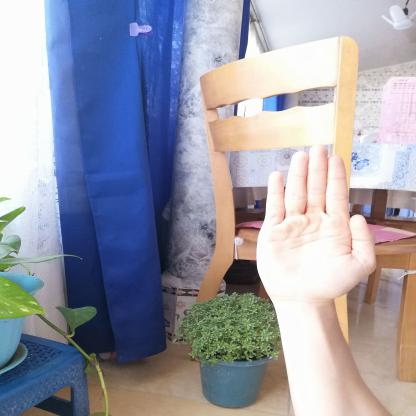SEEN: (244, 137, 384, 310)
